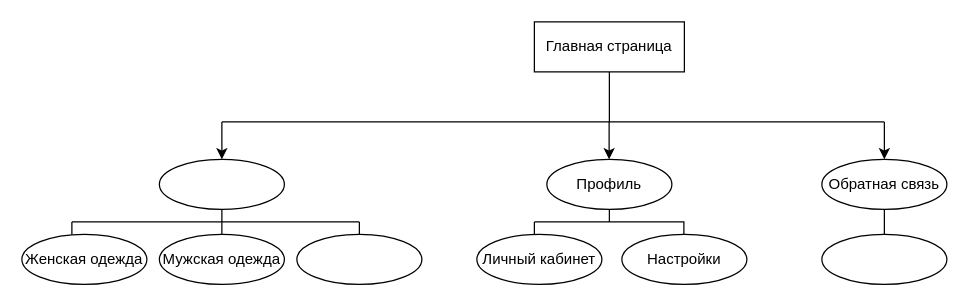
The diagram is 969 pixels wide and 306 high, and some of its shapes have lost their labels. Each missing label, with the box of its shape:
Каталог: (158, 158, 284, 209)
Контакты: (821, 233, 947, 284)
Обувь: (296, 233, 422, 284)
